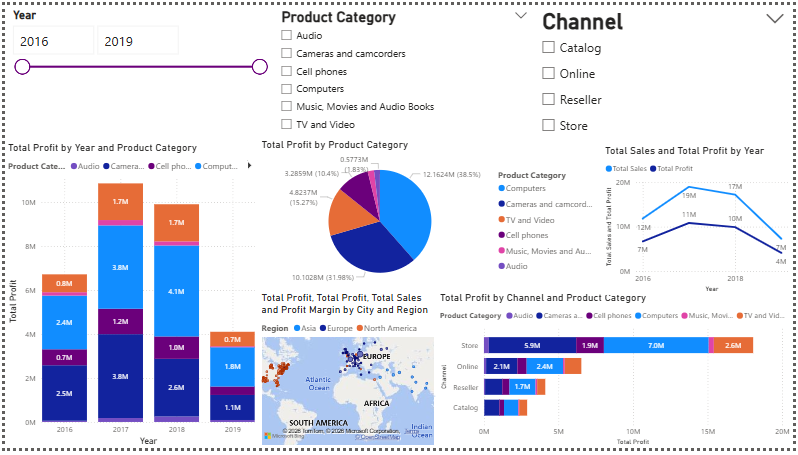

What the dashboard file says about the page in this screenshot:
{"tool":"powerbi","page":{"name":"Page 1","canvas":[1280,720],"ordinal":0},"visuals":[{"type":"barChart","fields":{"Category":["Company_Data.Channel"],"Y":["Company_Data.Total Profit"],"Series":["Company_Data.Product Category"]},"box":[702.7,466.3,578.1,254.2],"z":0},{"type":"slicer","fields":{"Values":["Company_Data.Year"]},"box":[0,0,435.6,221.8],"z":1000},{"type":"slicer","fields":{"Values":["Company_Data.Product Category"]},"box":[435.6,0,425.9,226.7],"z":2000},{"type":"slicer","fields":{"Values":["Company_Data.Channel"]},"box":[861.4,0,419.4,226.7],"z":3000},{"type":"columnChart","fields":{"Category":["Company_Data.Year"],"Y":["Company_Data.Total Profit"],"Series":["Company_Data.Product Category"]},"box":[0,221.8,411.3,498.7],"z":4000},{"type":"pieChart","fields":{"Category":["Company_Data.Product Category"],"Y":["Company_Data.Total Profit"]},"box":[411.3,217,560.3,249.4],"z":5000},{"type":"lineChart","fields":{"Category":["Company_Data.Year"],"Y":["Company_Data.Total Sales","Company_Data.Total Profit"]},"box":[971.5,226.7,309.3,244.5],"z":6000},{"type":"map","fields":{"Category":["Company_Data.City","Company_Data.Country"],"Series":["Company_Data.Region"],"Size":["Company_Data.Total Profit"]},"box":[411.3,466.3,291.5,254.2],"z":7000}]}

Visuals, with their boxes in screenshot pixels (x1, y1, x2, y2), scaled from the page's 1280x720 canvas onto the 798x455 screenshot:
barChart - Company_Data.Channel x Company_Data.Total Profit: detection(438, 295, 797, 454)
slicer - Company_Data.Year: detection(0, 0, 272, 140)
slicer - Company_Data.Product Category: detection(272, 0, 537, 143)
slicer - Company_Data.Channel: detection(537, 0, 797, 143)
columnChart - Company_Data.Year x Company_Data.Total Profit: detection(0, 140, 256, 454)
pieChart - Company_Data.Product Category x Company_Data.Total Profit: detection(256, 137, 606, 295)
lineChart - Company_Data.Year x Company_Data.Total Sales: detection(606, 143, 797, 298)
map - Company_Data.City x Company_Data.Country: detection(256, 295, 438, 454)
